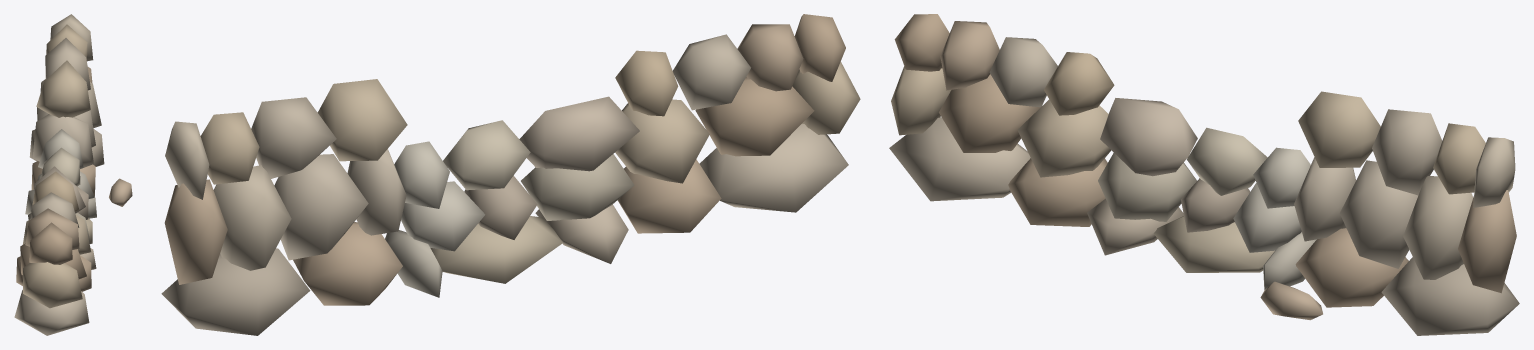
Rendered from farm_-4_16_near.glb.
The picture shows the model from 3 angles, left to right: view 1: azimuth 30°, elevation 25°; view 2: azimuth 150°, elevation 25°; view 3: azimuth 270°, elevation 25°; orthographic projection. The views are drawn at different scales.
Parts seen in each view (by area): view 1: geometry_0; view 2: geometry_0; view 3: geometry_0.
Part boxes in pixels (box(x1,y1,x2,y2)): geometry_0: box(14, 14, 132, 335); geometry_0: box(161, 14, 860, 335); geometry_0: box(889, 14, 1519, 335).
Size of the model in its own units: 2.91 by 1.52 by 4.19.
